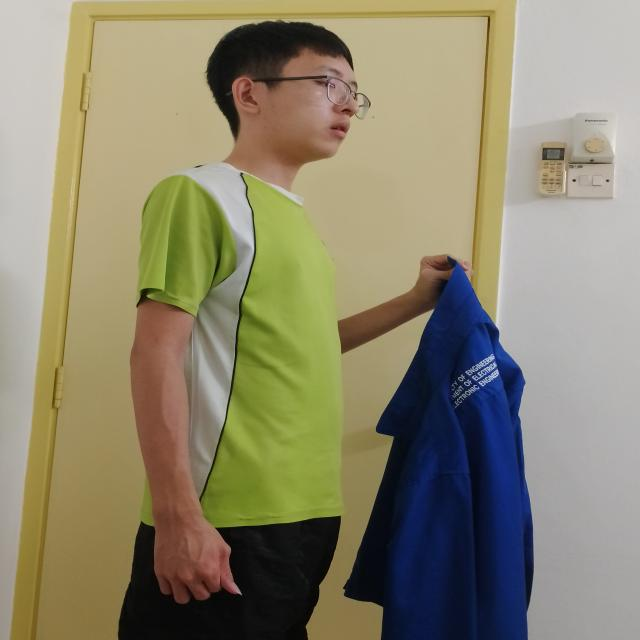person_without_labcoat: (118, 22, 533, 640)
